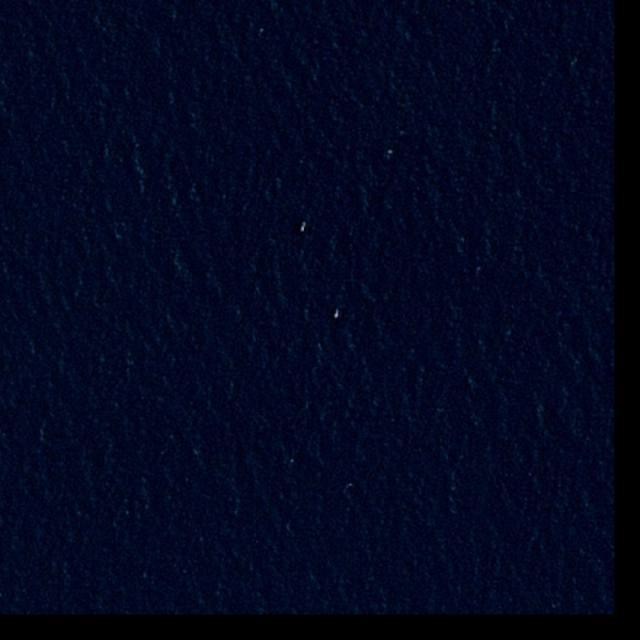ship: (301, 226, 305, 232), (334, 314, 338, 319)
